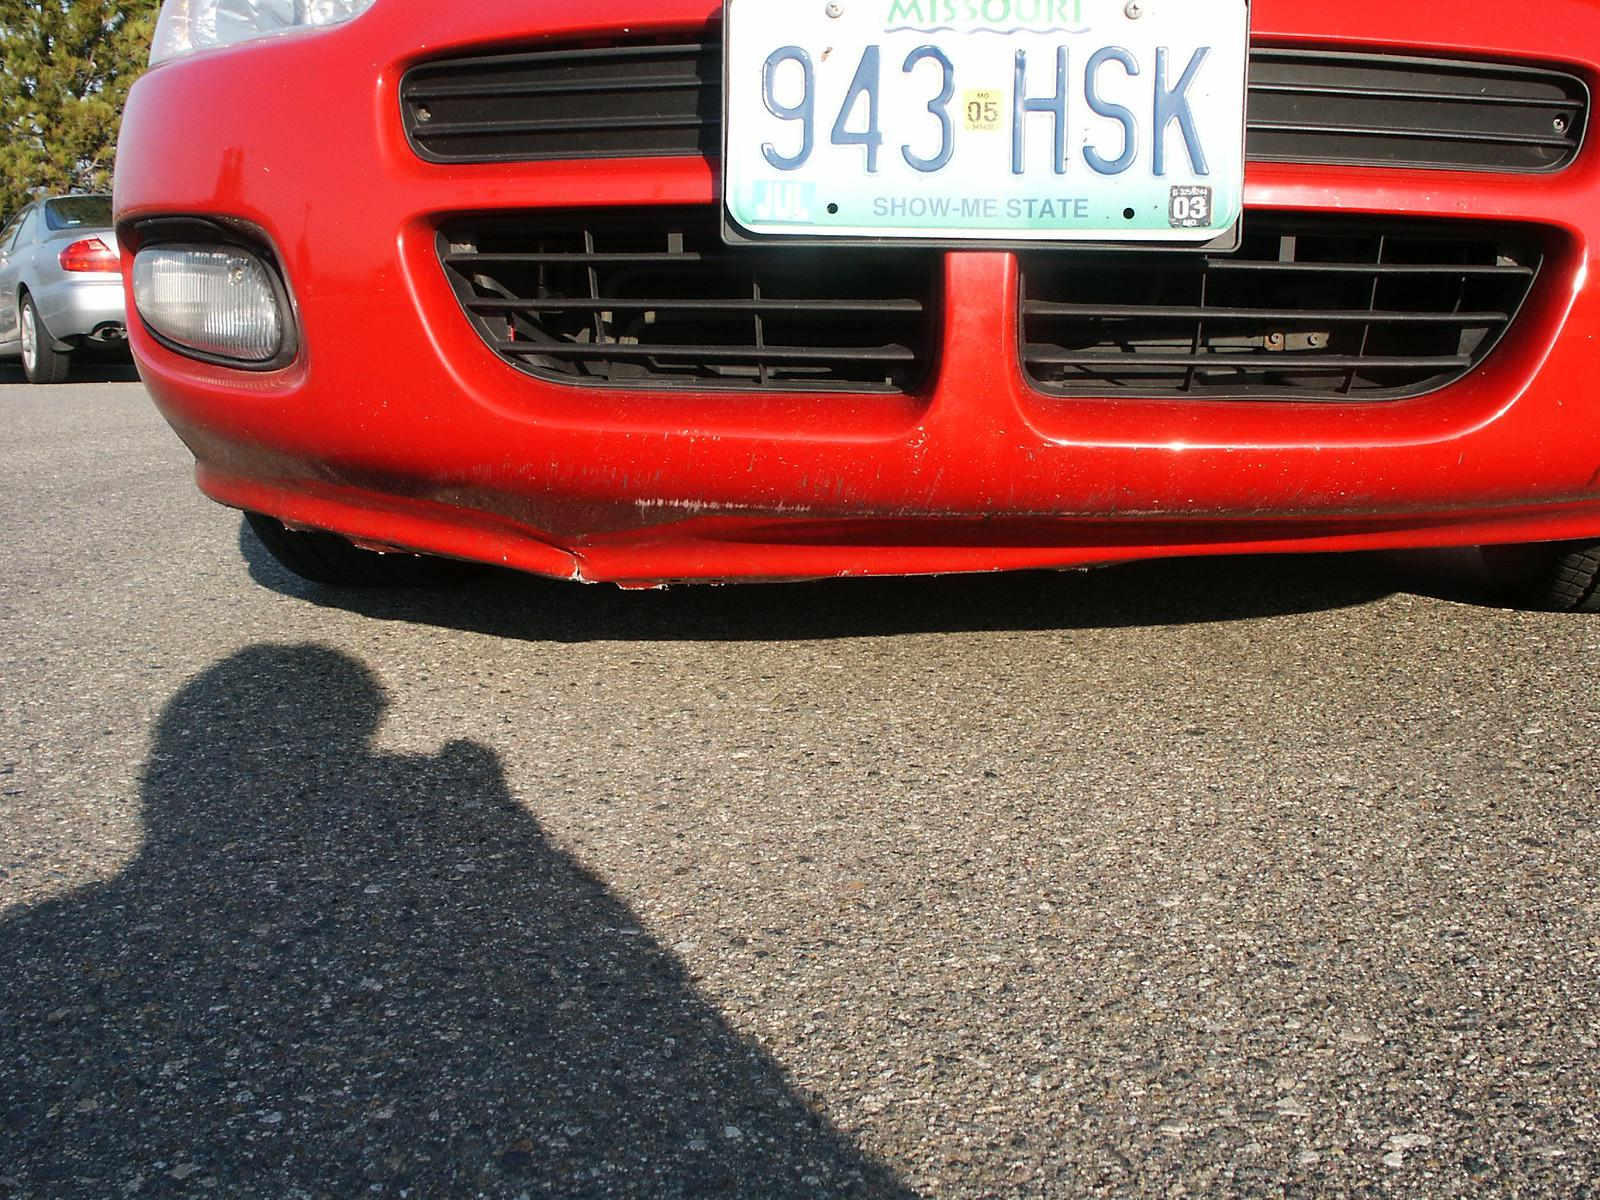front-bumper-dent: (108, 160, 1450, 633)
